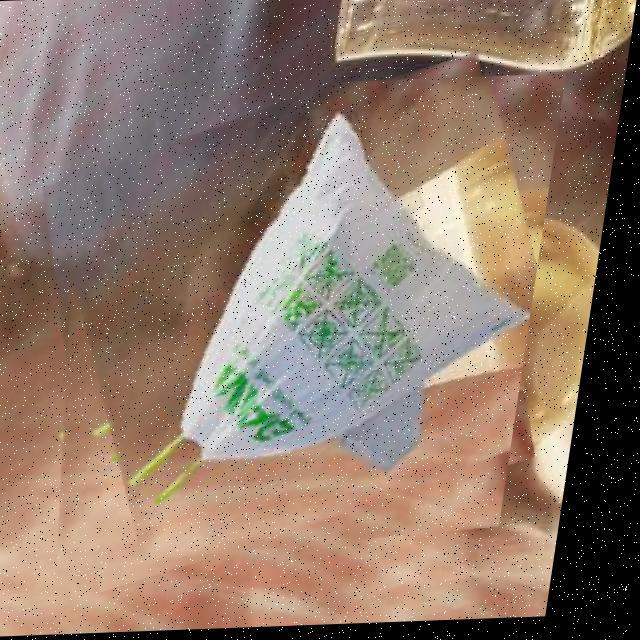litter: (28, 77, 569, 570)
